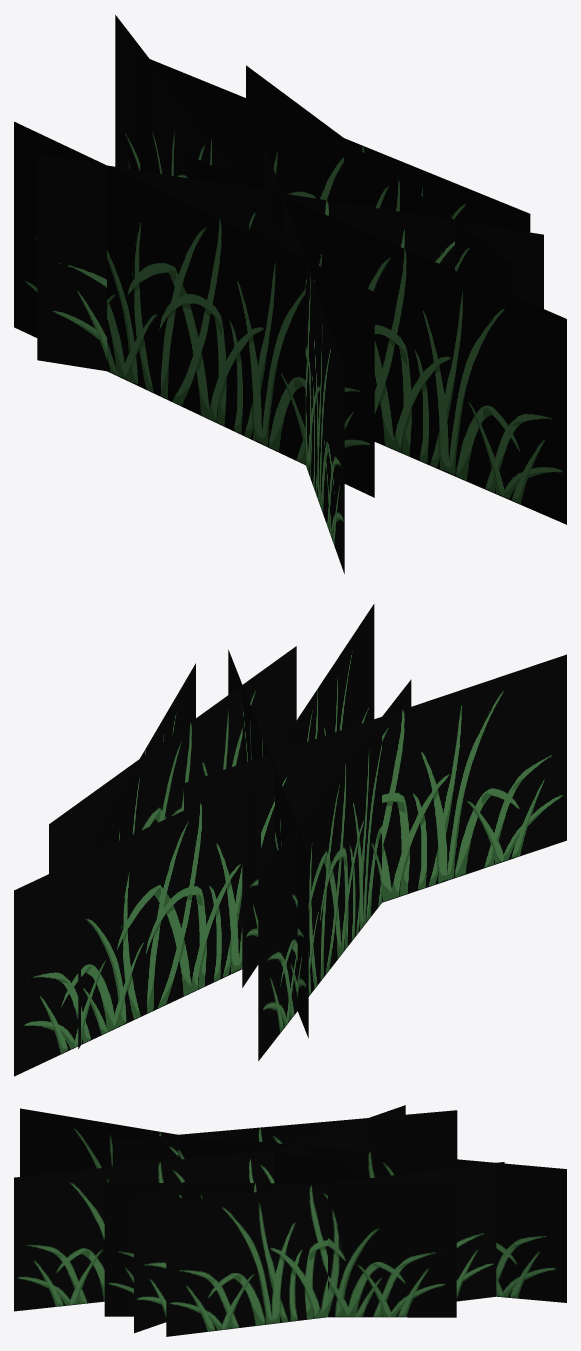
The model's file is grassmesh.fbx.
3 views of the same model, one above another, from view 1: azimuth 30°, elevation 25°; view 2: azimuth 150°, elevation 25°; view 3: azimuth 270°, elevation 25° (orthographic). The views are drawn at different scales.
Parts seen in each view (by area): view 1: Grass7; view 2: Grass7; view 3: Grass7.
Boxes of the visible parts, x1,y1,x2,y2 form: Grass7: (14,15,566,573); Grass7: (14,604,566,1076); Grass7: (14,1105,566,1336).
Bounding box in the file's own units: 351 × 224 × 837.
Materials: 1 (1 with a texture image).
